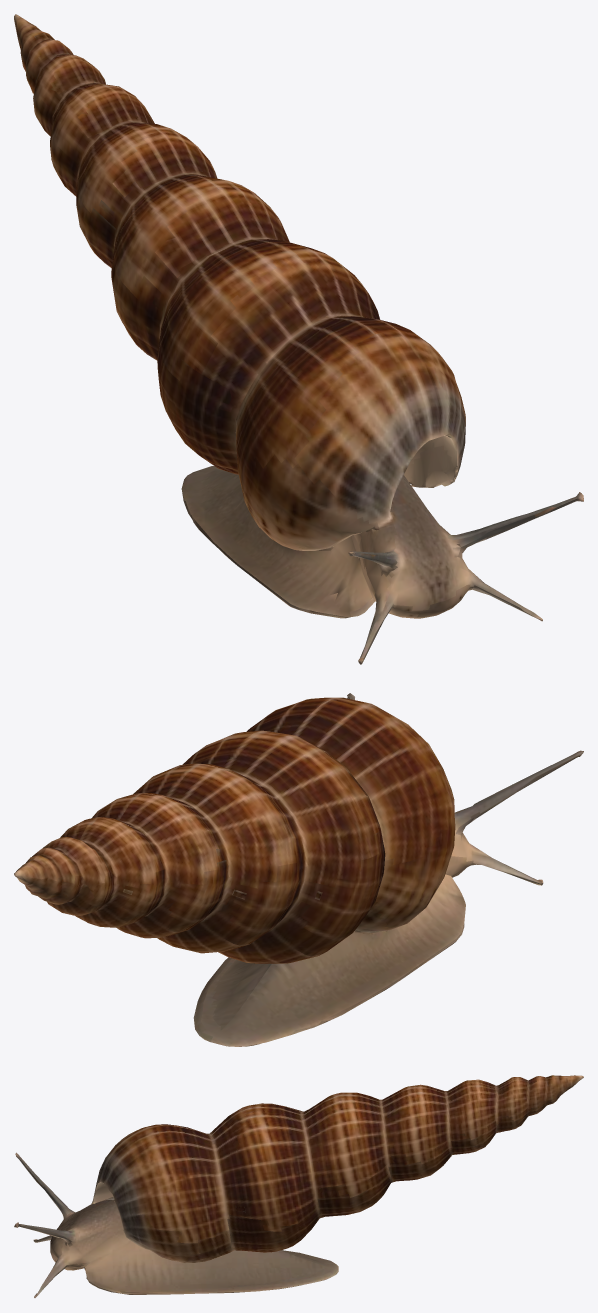
Rendered from snail_trumpet.glb.
The picture shows the model from 3 angles, top to bottom: view 1: azimuth 30°, elevation 25°; view 2: azimuth 150°, elevation 25°; view 3: azimuth 270°, elevation 25°; orthographic projection. The views are drawn at different scales.
Visible parts, largest first — view 1: Mesh0; view 2: Mesh0; view 3: Mesh0.
Part boxes in pixels (box(x1,y1,x2,y2)): Mesh0: box(14, 14, 583, 664); Mesh0: box(14, 693, 583, 1046); Mesh0: box(14, 1075, 583, 1297).
Bounding box in the file's own units: 0.5688 × 0.7204 × 1.89.
Materials: 1 (1 with a texture image).
